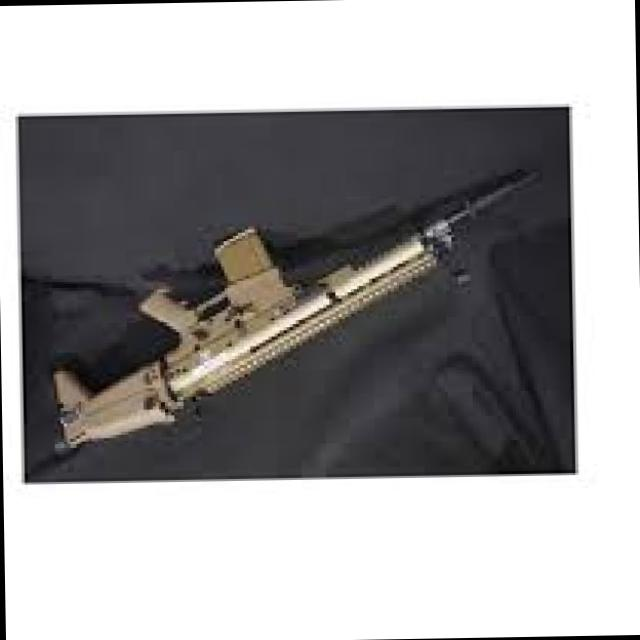Gun: (39, 172, 540, 475)
